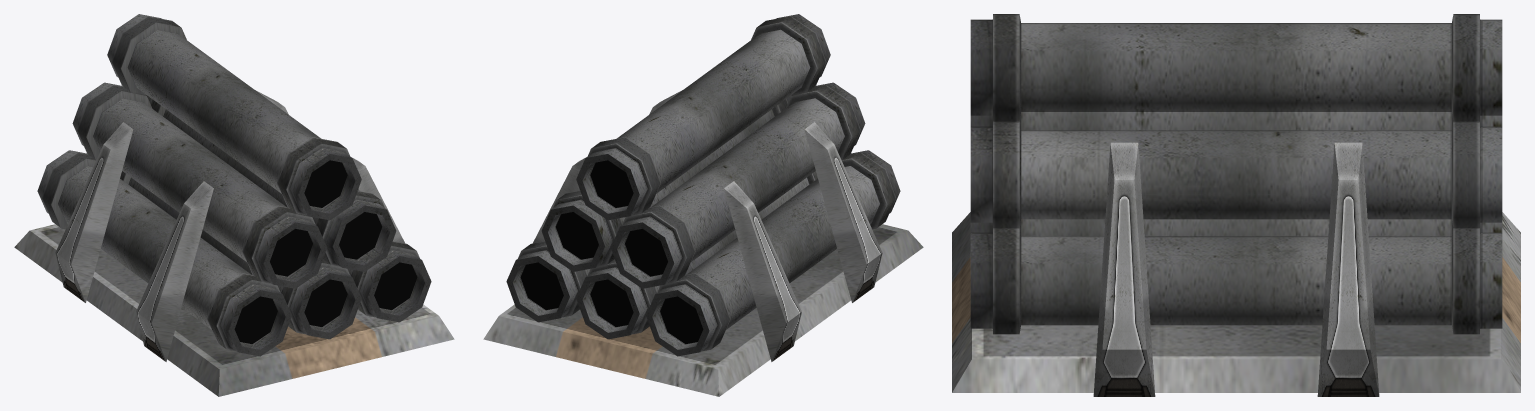
The model's file is doodad_pipe_pallet.fbx.
3 views of the same model, side by side, from view 1: azimuth 30°, elevation 25°; view 2: azimuth 150°, elevation 25°; view 3: azimuth 270°, elevation 25° (orthographic). The views are drawn at different scales.
Visible parts, largest first — view 1: polySurface1; view 2: polySurface1; view 3: polySurface1.
Boxes of the visible parts, x1,y1,x2,y2 form: polySurface1: (14,14,454,396); polySurface1: (483,14,923,396); polySurface1: (952,14,1520,396).
Size of the model in its own units: 2.22 by 1.75 by 3.
Materials: 1 (1 with a texture image).
